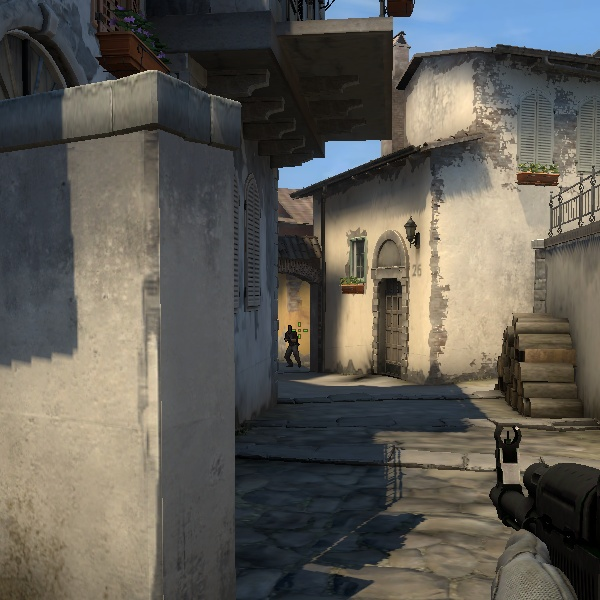t_body: (280, 325, 305, 366)
